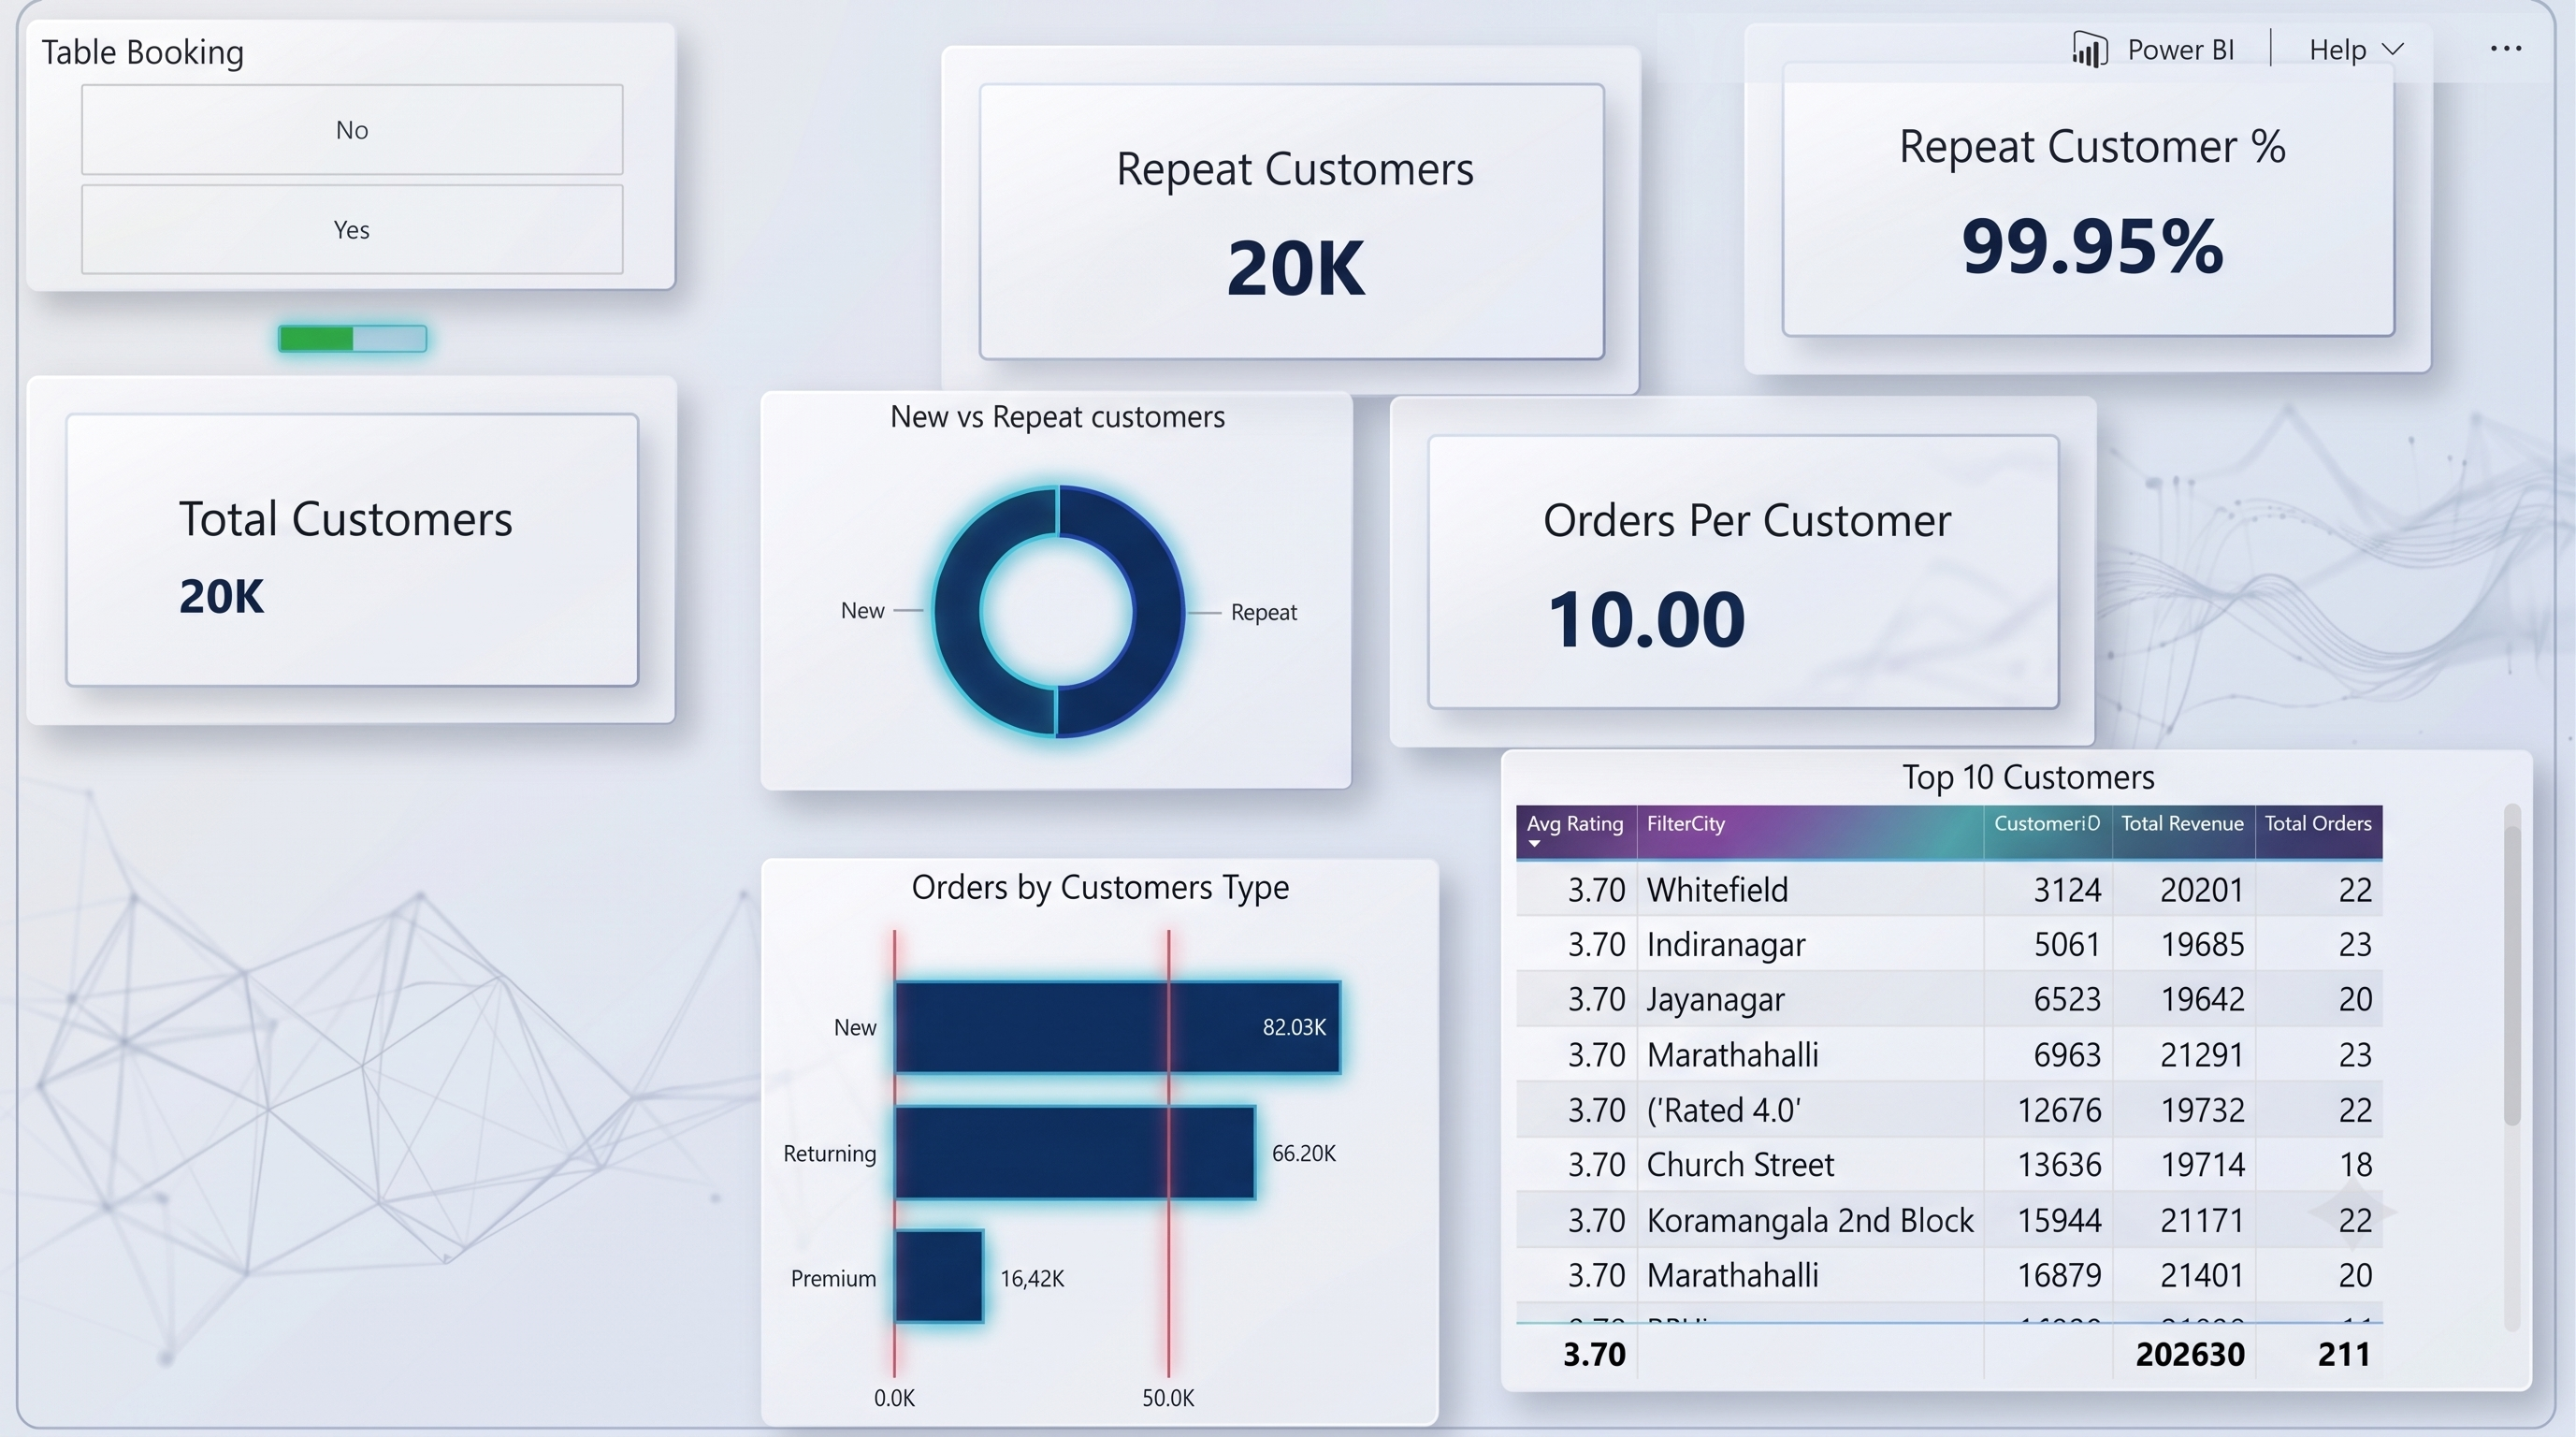

This screenshot's page, from the dashboard's own definition file:
{"tool":"powerbi","page":{"name":"Customer Anaylatics","canvas":[1280,720],"ordinal":4},"visuals":[{"type":"cardVisual","fields":{"Data":["Orders.Total Customers"]},"box":[18.6,498.6,292.9,178.6],"z":0},{"type":"cardVisual","fields":{"Data":["Orders.Orders Per Customer"]},"box":[690,192.9,357.1,178.6],"z":1000},{"type":"cardVisual","fields":{"Data":["Orders.Repeat Customer %"]},"box":[868.6,2.9,347.1,178.6],"z":2000},{"type":"cardVisual","fields":{"Data":["Orders.Repeat Customers"]},"box":[462.9,14.3,352.9,178.6],"z":3000},{"type":"donutChart","title":"New vs Repeat customers","fields":{"Y":["Orders.Total Orders"],"Category":["Customers.RepeatedvsNew"]},"box":[371.4,190,300,202.9],"z":4000},{"type":"tableEx","title":"Top 10 Customers","fields":{"Values":["Orders.Avg Rating","Customers.FilterCity","Customers.CustomerID","Orders.Total Revenue","Orders.Total Orders"]},"box":[745.7,371.4,534.3,327.1],"z":5000},{"type":"barChart","title":"Orders by Customers Type","fields":{"Y":["Orders.Total Orders"],"Category":["Customers.CustomerType"]},"box":[371.4,427.1,342.9,292.9],"z":6000},{"type":"slicer","title":"Table Booking","fields":{"Values":["Restaurants.Book_table"]},"box":[0,2.9,328.6,135.7],"z":7000}]}

Visuals, with their boxes on the page's 1280x720 design canvas (x1, y1, x2, y2). These are canvas units, not pixel positions in the 2576x1437 screenshot, which may show the page scaled, cropped or inside an application window:
cardVisual - Orders.Total Customers: (19,499,312,677)
cardVisual - Orders.Orders Per Customer: (690,193,1047,372)
cardVisual - Orders.Repeat Customer %: (869,3,1216,182)
cardVisual - Orders.Repeat Customers: (463,14,816,193)
"New vs Repeat customers" donutChart: (371,190,671,393)
"Top 10 Customers" tableEx: (746,371,1280,698)
"Orders by Customers Type" barChart: (371,427,714,720)
"Table Booking" slicer: (0,3,329,139)
